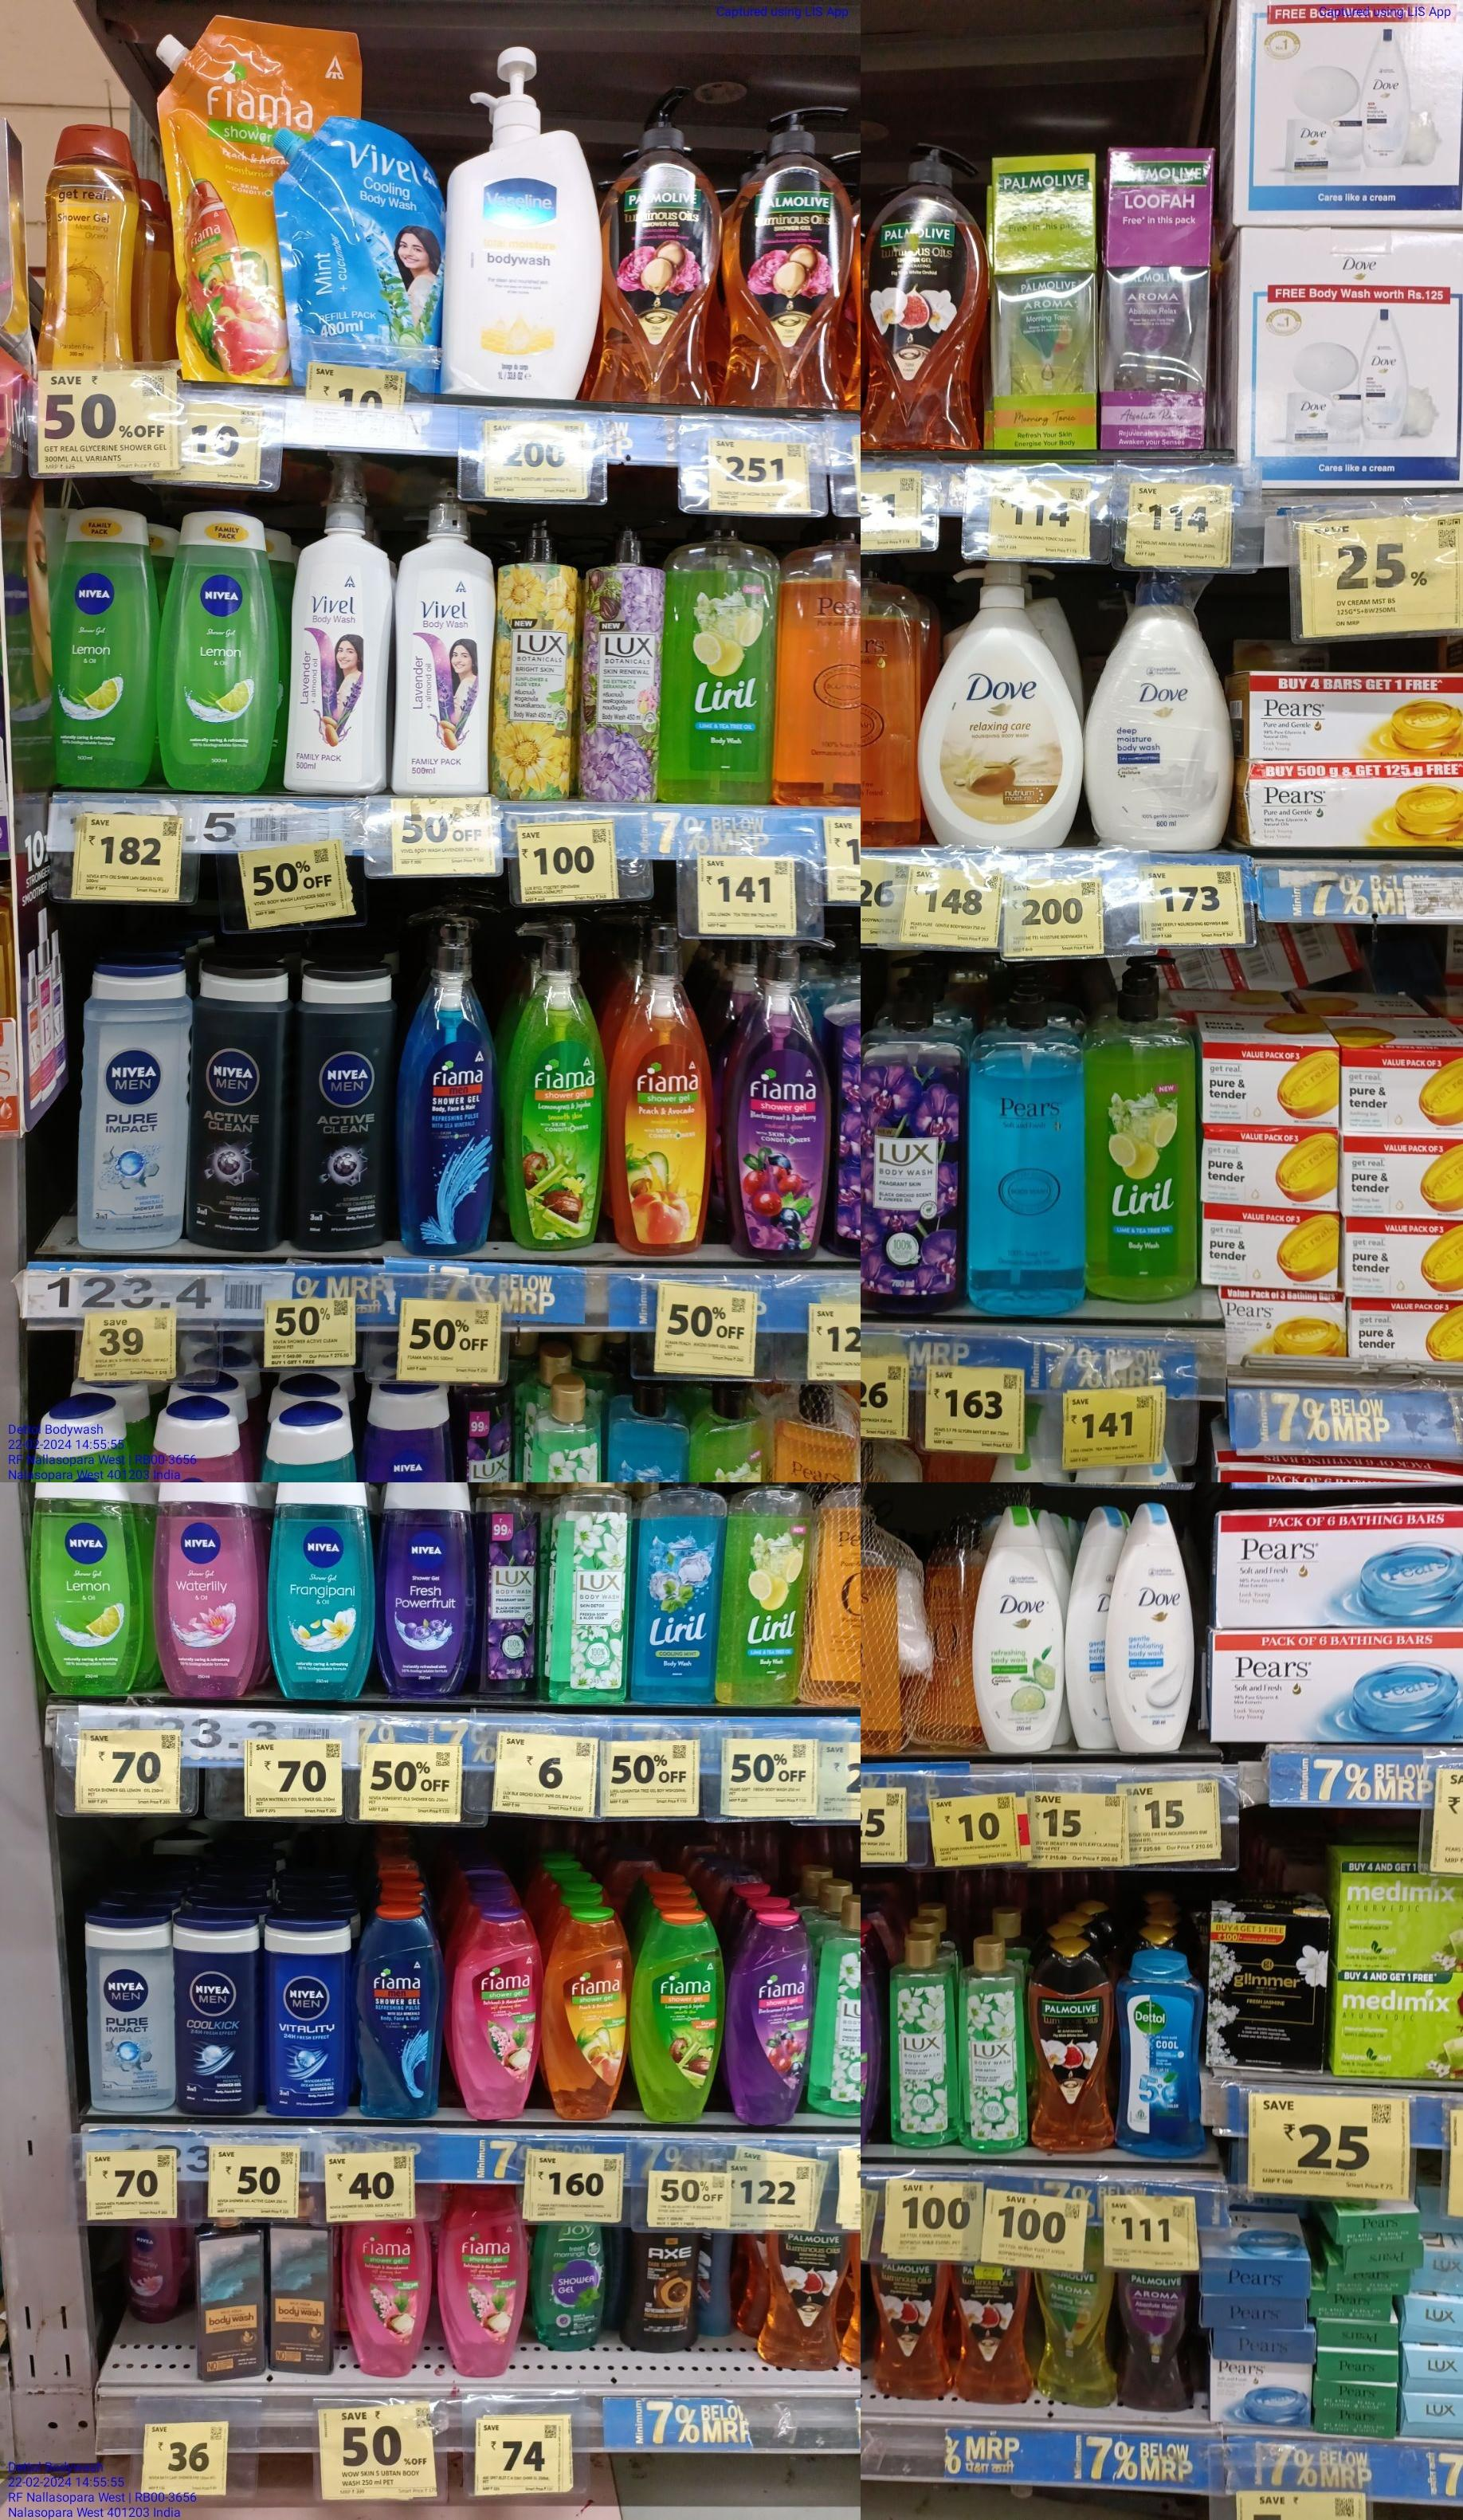Dettol_Bodywash_Cool: (1118, 1956, 1205, 2156)
Dove_Gentle_Exfoliating_Body_Wash_250ML: (1113, 1499, 1190, 1757)
Dove_Refreshing_Body_Wash_250ML: (977, 1512, 1059, 1754)
Fiama_Shower_Gel_Lemongrass_and_Jojoba_250ML: (632, 1907, 718, 2128)
Fiama_Shower_Gel_Patchouli_and_Macadamia_250ML: (437, 2179, 526, 2382), (455, 1910, 536, 2119), (345, 2212, 425, 2374)
Fiama_Shower_Gel_Peach_and_Avocado_250ML: (545, 1903, 625, 2123)
Joy_Shower_Gel_Mint_and_Eucalyptus_250ML: (536, 2207, 613, 2351)
Lux_Black_Orchid_Scent_and_Juniper_Oil_Body_Wash_245ML: (481, 1498, 536, 1705)
Lux_Body_Wash_Skin_Detox_Freesia_Scent_and_Alove_Vera_245ML: (550, 1510, 627, 1700), (890, 1940, 960, 2144), (965, 1940, 1026, 2154)
Nivea_Shower_Gel_Frangipani_and_Oil_250ML: (272, 1496, 354, 1705)
Nivea_Shower_Gel_Fresh_Powerfruit_250ML: (383, 1506, 470, 1700)
Nivea_Shower_Gel_Lemon_and_Oil_250ML: (160, 502, 266, 787), (49, 496, 148, 787), (35, 1487, 139, 1696)
Nivea_Shower_Gel_Waterlily_and_Oil_250ML: (158, 1517, 254, 1703)
Palmolive_Aroma_Morning_Tonic_Shower_Gel_250ML: (1038, 2269, 1118, 2417)
Palmolive_Aroma_Relax_250ML: (1127, 2269, 1191, 2412)
Palmolive_Luminous_Oils_With_White_Orchid_Shower_Gel_250ML: (1035, 1938, 1109, 2149), (759, 2222, 848, 2372), (876, 2247, 953, 2405), (960, 2255, 1031, 2403)
